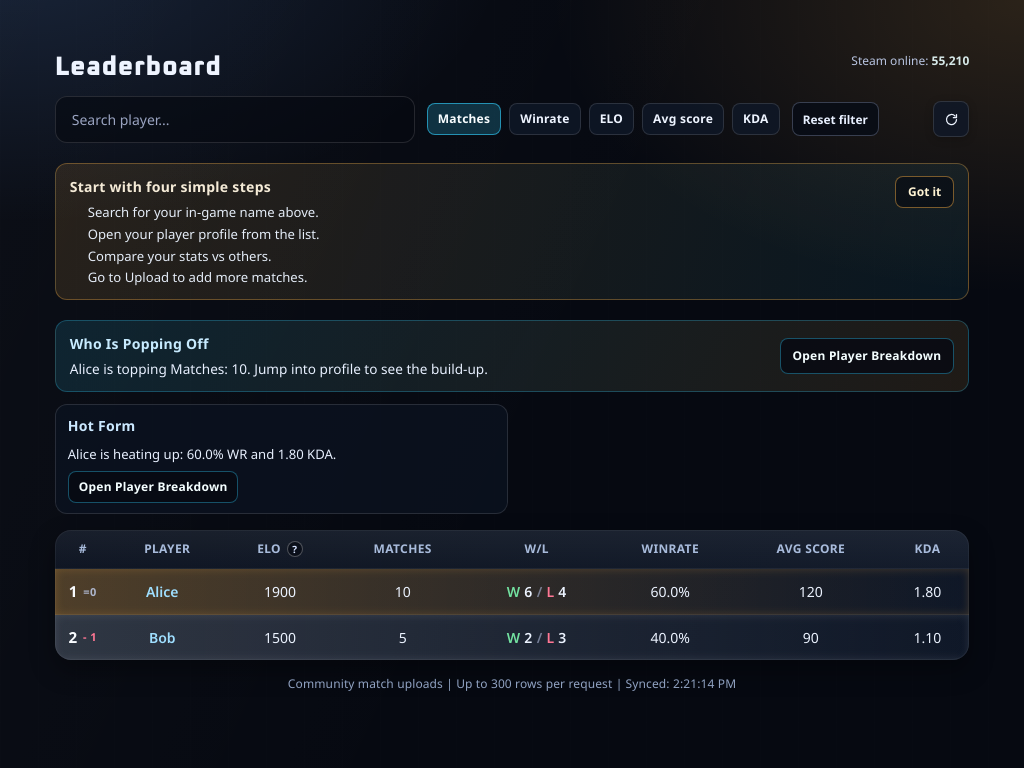
Test: PlayersTab › filters rows by search input
Check: the link "Alice" is shown, box x1=146 y1=581 x2=178 y2=602
Type "ali" into the field with placeholder "Search player..." at coordinates (235, 119), box x1=55 y1=96 x2=415 y2=143
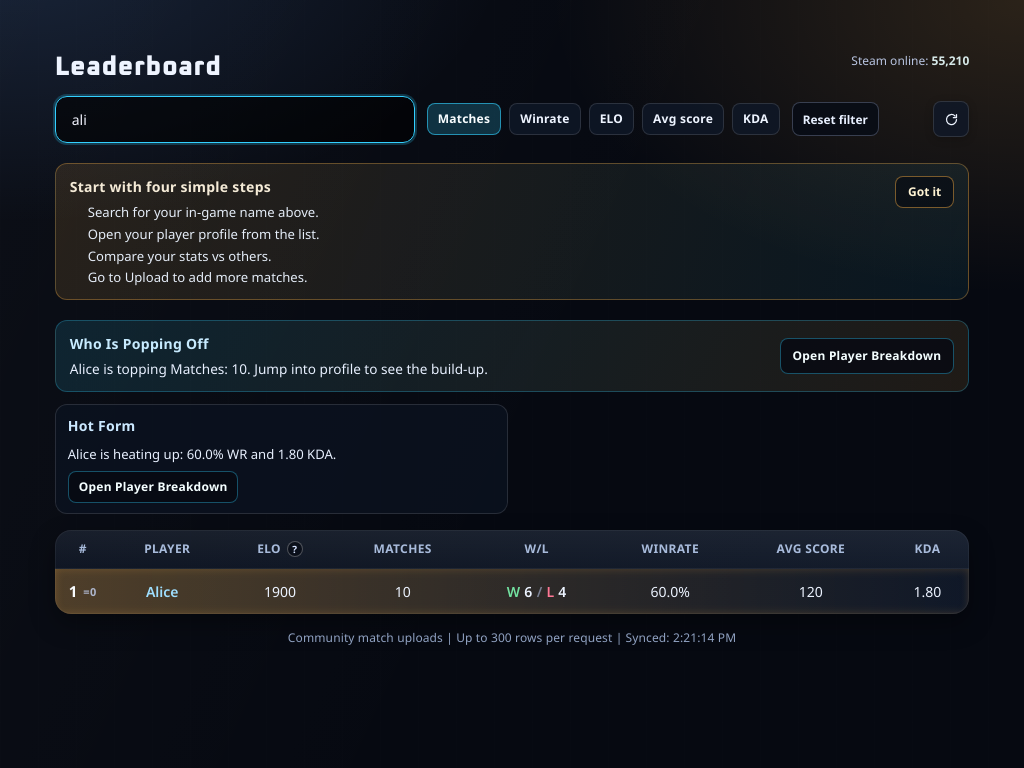
Check: the link "Alice" is shown, box x1=146 y1=581 x2=178 y2=602
Check: the link "Bob" is gone
